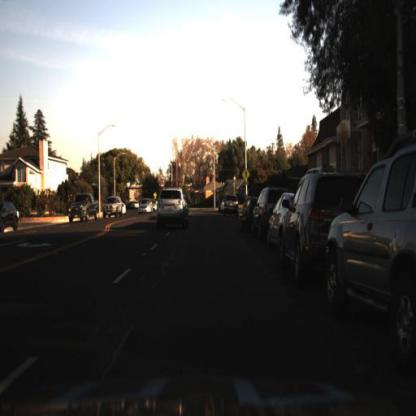car: (324, 145, 416, 364), (280, 164, 370, 277), (282, 165, 325, 292), (157, 188, 189, 228), (69, 192, 99, 228), (271, 188, 287, 255), (1, 200, 21, 236), (103, 194, 124, 220), (224, 195, 242, 219), (138, 198, 155, 217)
